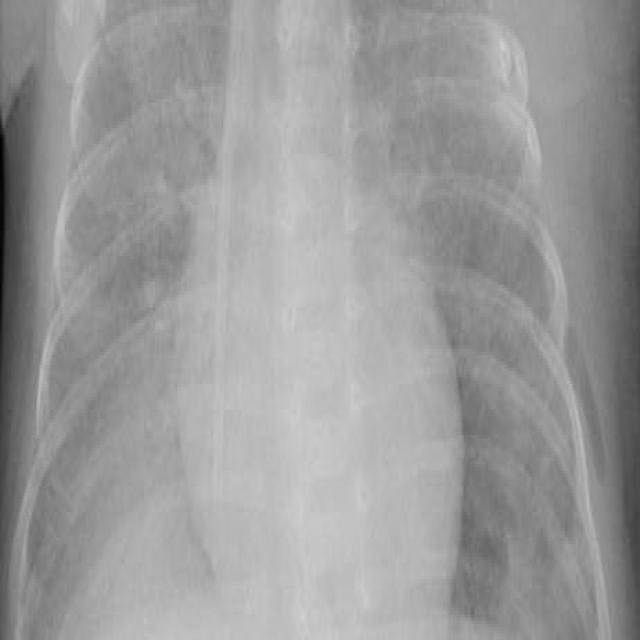high-pneumonia: (72, 24, 214, 502)
low-pneumonia: (368, 1, 515, 333)
